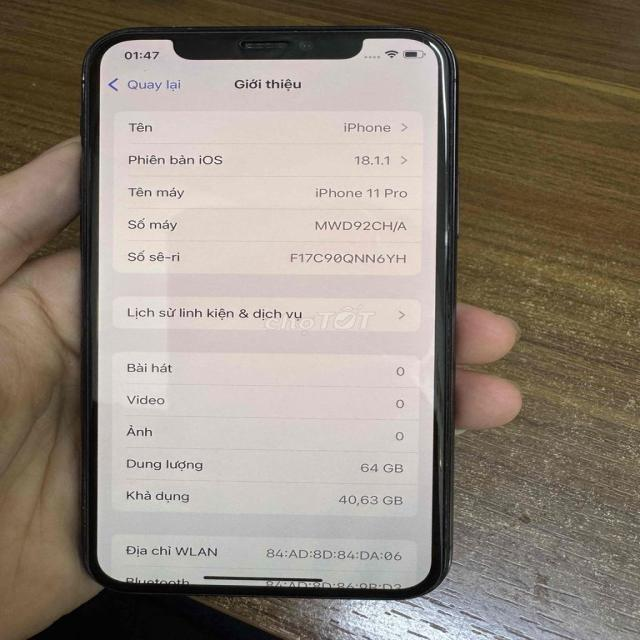gen_11: (82, 28, 457, 598)
